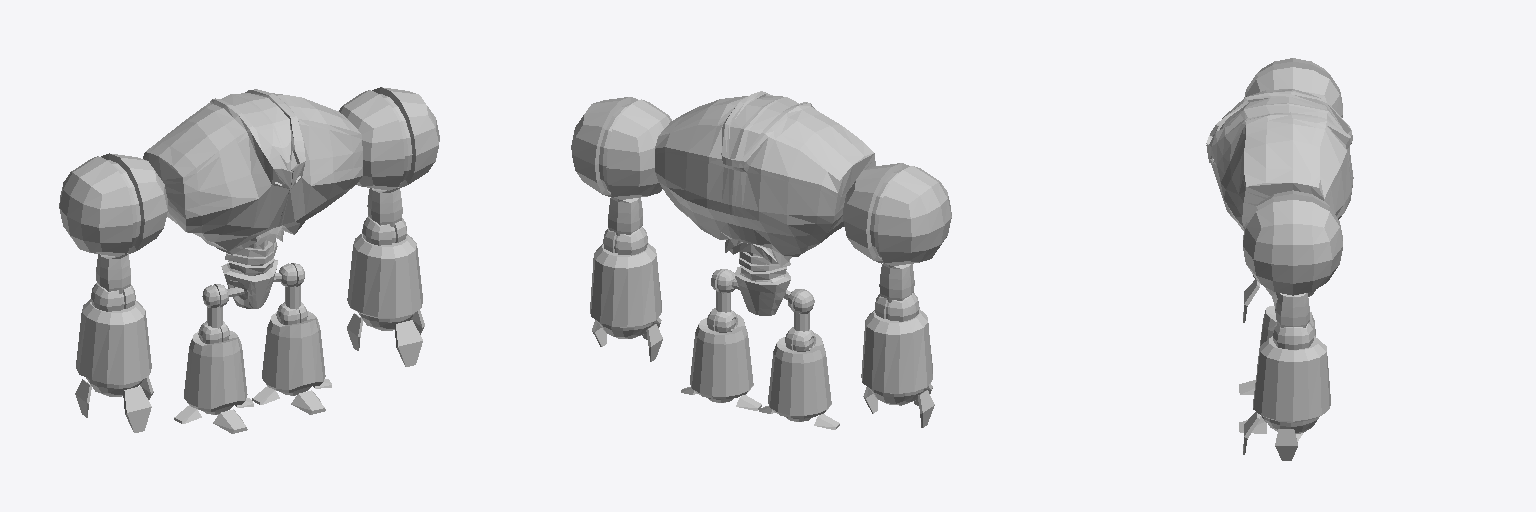
The model's file is Robotmodel.obj.
The picture shows the model from 3 angles: view 1: azimuth 30°, elevation 25°; view 2: azimuth 150°, elevation 25°; view 3: azimuth 270°, elevation 25°; orthographic projection.
Parts seen in each view (by area): view 1: pCube28; view 2: pCube28; view 3: pCube28.
Boxes of the visible parts, <box> form: pCube28: <box>59,87,439,433</box>; pCube28: <box>571,91,951,429</box>; pCube28: <box>1206,58,1353,460</box>.
Size of the model in its own units: 9.63 by 7.7 by 3.37.